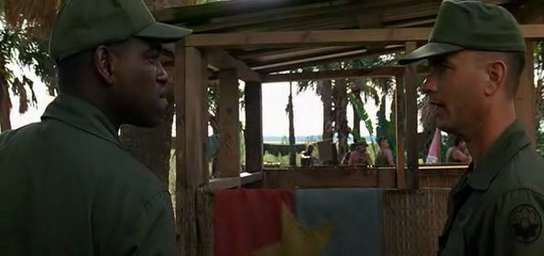face: (124, 40, 172, 128), (420, 50, 472, 130)
mcu: (1, 1, 544, 256)
person: (1, 1, 195, 256), (398, 1, 544, 256)
